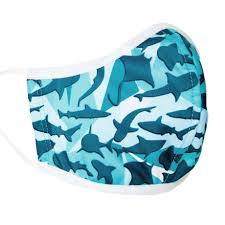cloth_mask: (1, 22, 208, 191)
